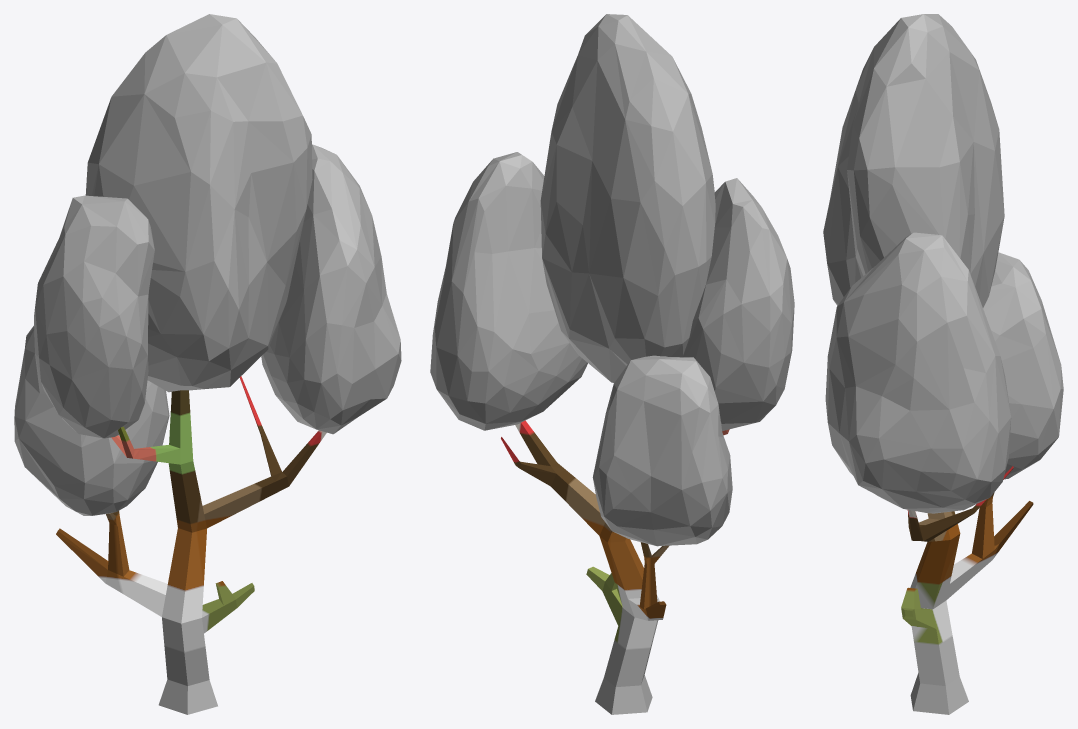
Rendered from Tree_01.fbx.
The picture shows the model from 3 angles, left to right: view 1: azimuth 30°, elevation 25°; view 2: azimuth 150°, elevation 25°; view 3: azimuth 270°, elevation 25°; orthographic projection. The views are drawn at different scales.
Parts seen in each view (by area): view 1: Tree_01; view 2: Tree_01; view 3: Tree_01.
Part boxes in pixels (x1=…): Tree_01: x1=14, y1=14, x2=401, y2=714; Tree_01: x1=430, y1=14, x2=794, y2=714; Tree_01: x1=823, y1=14, x2=1063, y2=714.
Bounding box in the file's own units: 10.48 × 20.22 × 6.34.
